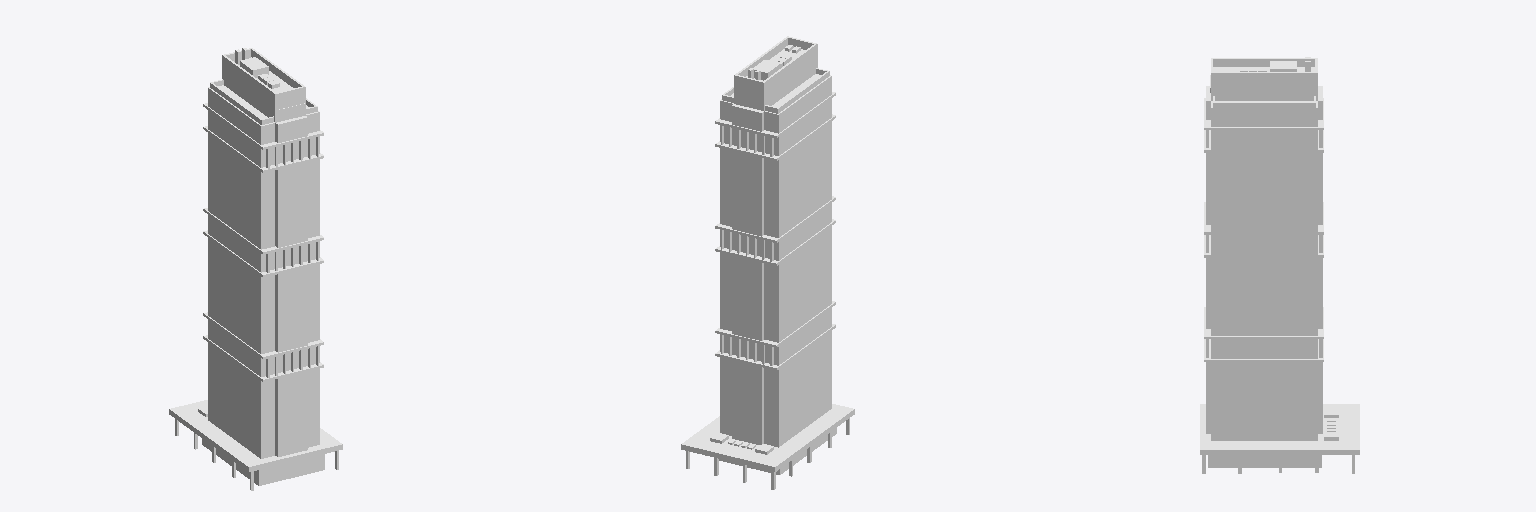
The model's file is Building_03.obj.
3 renders of one model, left to right at view 1: azimuth 30°, elevation 25°; view 2: azimuth 150°, elevation 25°; view 3: azimuth 270°, elevation 25°, orthographic.
Parts seen in each view (by area): view 1: Building_03.001_Mesh; view 2: Building_03.001_Mesh; view 3: Building_03.001_Mesh.
Boxes of the visible parts, x1=… form: Building_03.001_Mesh: x1=169, y1=48, x2=342, y2=490; Building_03.001_Mesh: x1=681, y1=36, x2=854, y2=489; Building_03.001_Mesh: x1=1200, y1=57, x2=1359, y2=473.
Size of the model in its own units: 9.28 by 36.91 by 13.57.